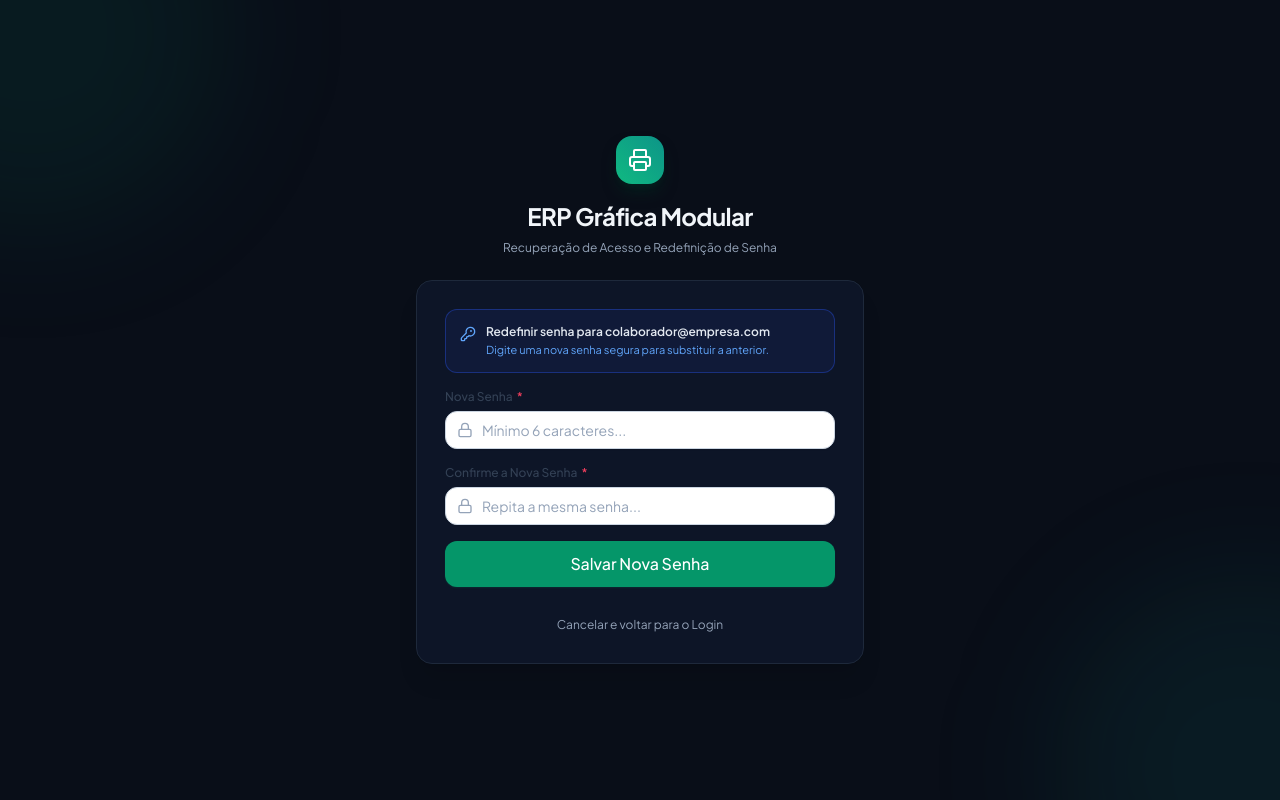
Scenario: ResetPasswordPage › should reset password successfully when form is submitted with valid matching passwords
This screenshot has width=1280, height=800.
expect the text "Redefinir senha para colaborador@empresa.com" is shown: met, box x1=486 y1=324 x2=770 y2=340
Type "novaSenha123" into the password field labelled "Nova Senha*" at (640, 430), box x1=445 y1=411 x2=835 y2=449
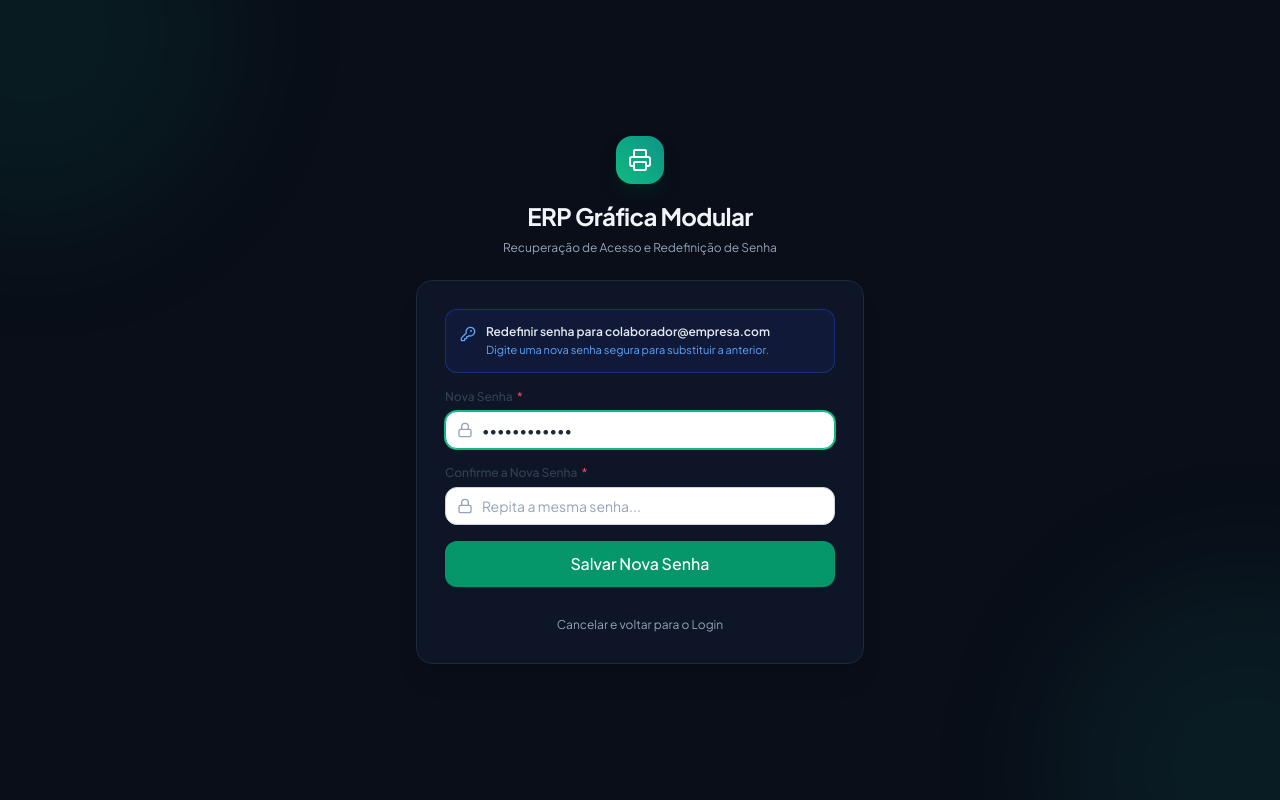
Type "novaSenha123" into the password field labelled "Confirme a Nova Senha*" at (640, 506), box x1=445 y1=487 x2=835 y2=525
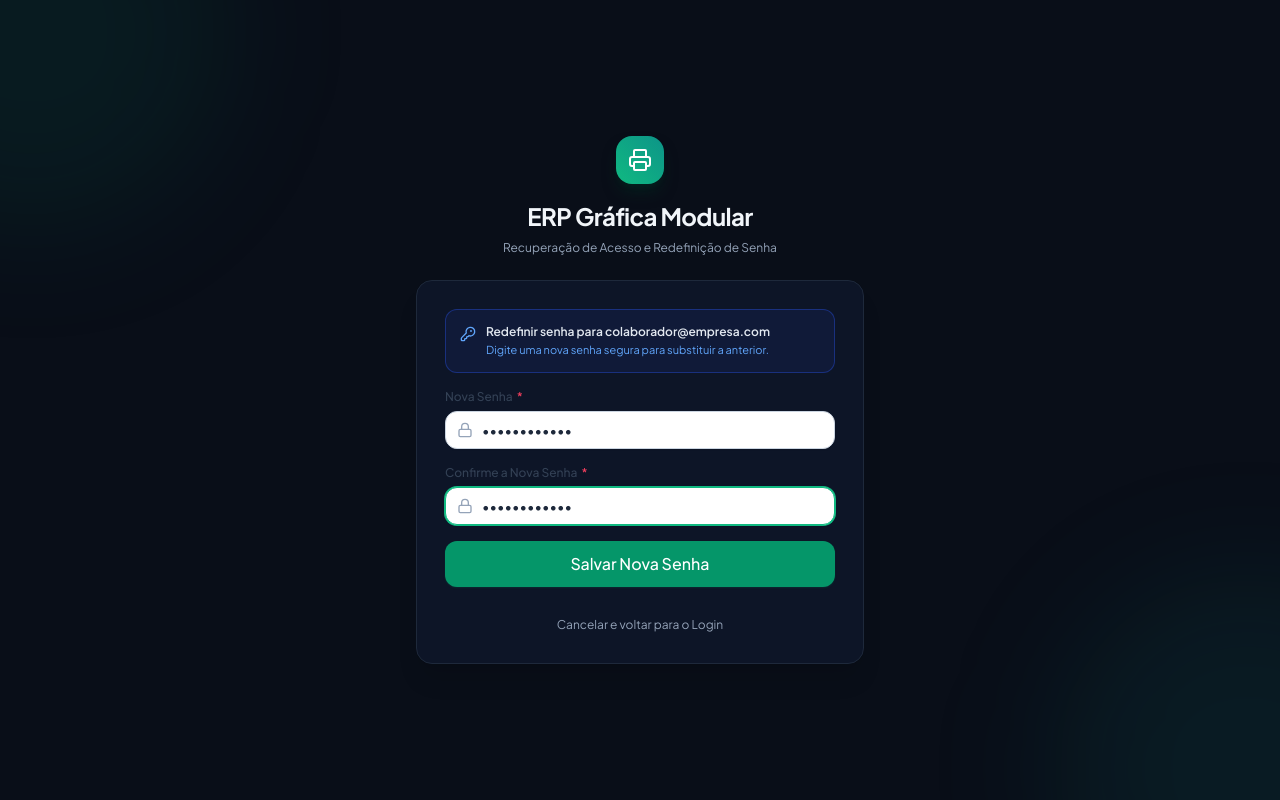
Click the button "Salvar Nova Senha" at (640, 564), box x1=445 y1=541 x2=835 y2=587
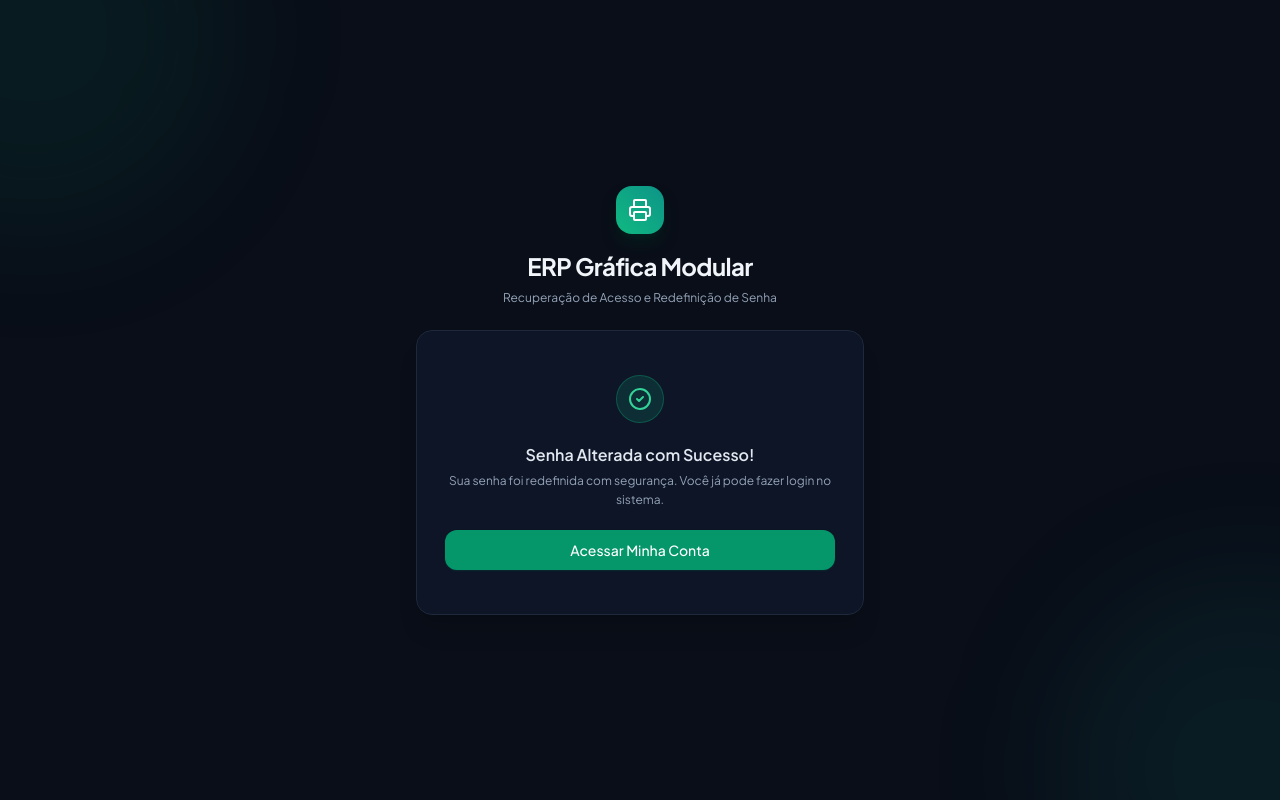
expect the heading "Senha Alterada com Sucesso!" is shown: met, box x1=526 y1=444 x2=755 y2=464
